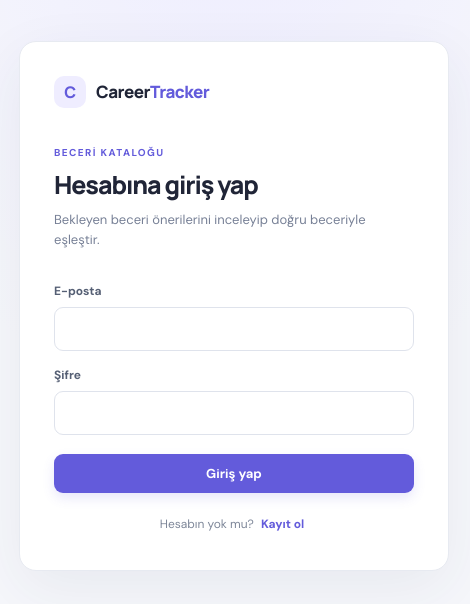
Test: authenticated API requests › keeps the login screen and shows a Turkish message for invalid credentials
This screenshot has width=470, height=604.
Step 1. Type "person@example.com" into the field labelled "E-posta" → coordinates (234, 329), box [54,307,414,351]
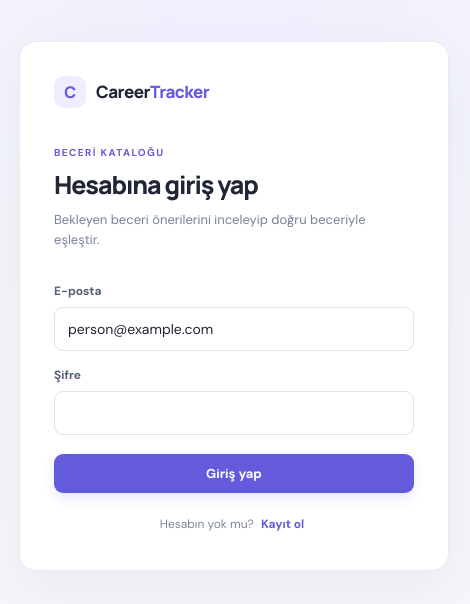
Step 2. Type "WrongPass123" into the password field labelled "Şifre" → coordinates (234, 413), box [54,391,414,435]
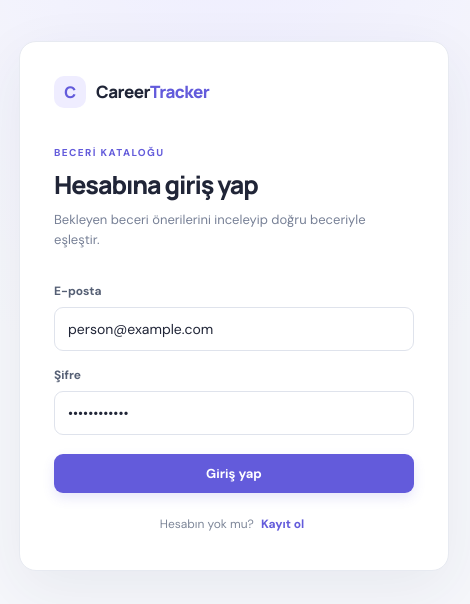
Step 3. Click the button "Giriş yap" → coordinates (234, 474), box [54,454,414,493]
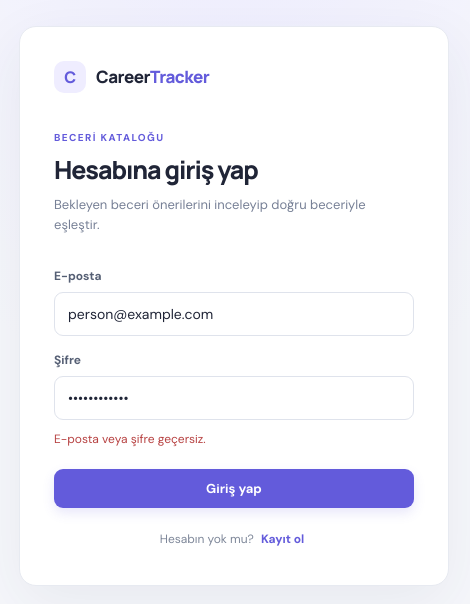
Expected: the heading "Hesabına giriş yap" is shown, [54,152,258,187]
Expected: the message shows "E-posta veya şifre geçersiz", [54,431,206,447]
